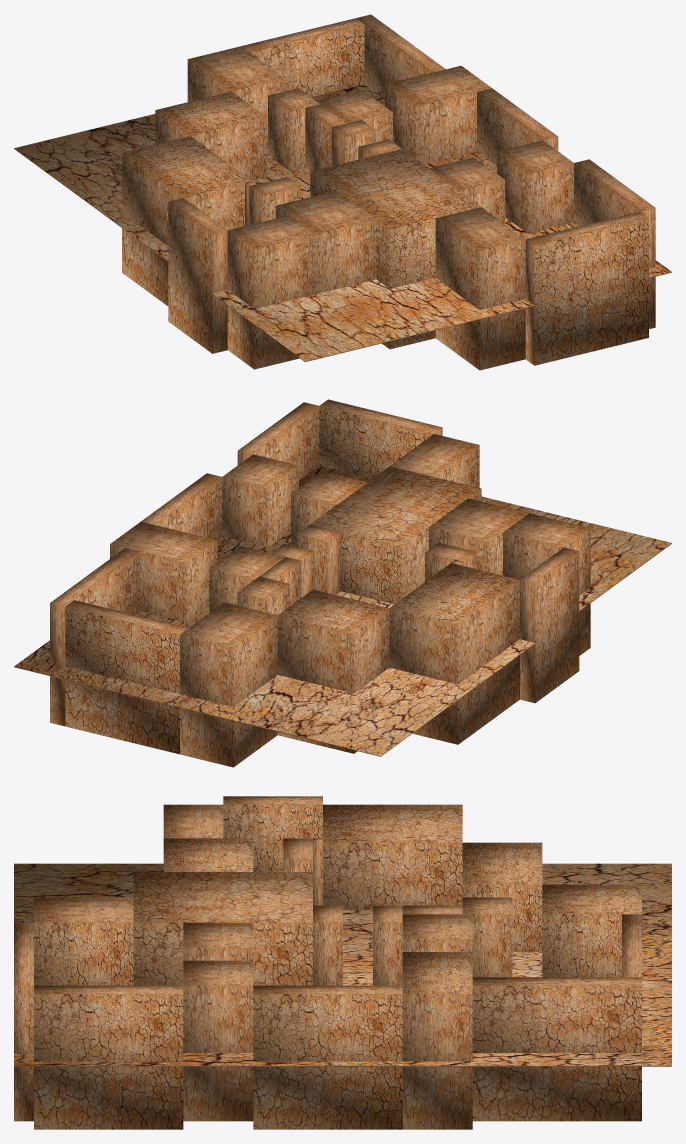
The model's file is Nivel1.obj.
3 views of the same model, one above another, from view 1: azimuth 30°, elevation 25°; view 2: azimuth 150°, elevation 25°; view 3: azimuth 270°, elevation 25° (orthographic). The views are drawn at different scales.
Parts seen in each view (by area): view 1: Box008, aux002, 025, 030, 031, 036, 033, 041, 035, 039, 034, 027 (+10 smaller); view 2: Box008, 031, 039, 025, 023, 034, 033, 041, aux002, 027, 040, 036 (+11 smaller); view 3: 040, Box008, 026, 029, 025, 031, 041, 027, 030, 023, 034, 033 (+12 smaller).
Boxes of the visible parts, <box> form: Box008: <box>14,84,671,361</box>; aux002: <box>525,211,648,365</box>; 025: <box>310,149,480,349</box>; 030: <box>435,207,525,370</box>; 031: <box>122,136,251,306</box>; 036: <box>227,215,315,369</box>; 033: <box>168,198,227,353</box>; 041: <box>385,65,491,164</box>; 035: <box>275,190,376,294</box>; 039: <box>241,18,364,97</box>; 034: <box>155,91,266,180</box>; 027: <box>497,140,573,233</box>; Box008: <box>14,465,671,756</box>; 031: <box>389,563,519,744</box>; 039: <box>65,600,188,754</box>; 025: <box>311,466,481,604</box>; 023: <box>180,602,277,767</box>; 034: <box>277,589,389,753</box>; 033: <box>520,547,579,703</box>; 041: <box>110,521,217,622</box>; aux002: <box>319,399,442,478</box>; 027: <box>222,454,298,547</box>; 040: <box>50,548,140,726</box>; 036: <box>503,513,590,655</box>; 040: <box>472,977,641,1121</box>; Box008: <box>14,863,671,1066</box>; 026: <box>253,985,402,1129</box>; 029: <box>34,985,183,1129</box>; 025: <box>133,872,312,985</box>; 031: <box>323,804,462,909</box>; 041: <box>402,952,472,1129</box>; 027: <box>183,960,253,1121</box>; 030: <box>34,897,133,985</box>; 023: <box>542,884,641,977</box>; 034: <box>462,842,542,951</box>; 033: <box>223,796,322,871</box>.
Size of the model in its own units: 20.42 by 6.38 by 28.07.
1 material, 1 textured.
